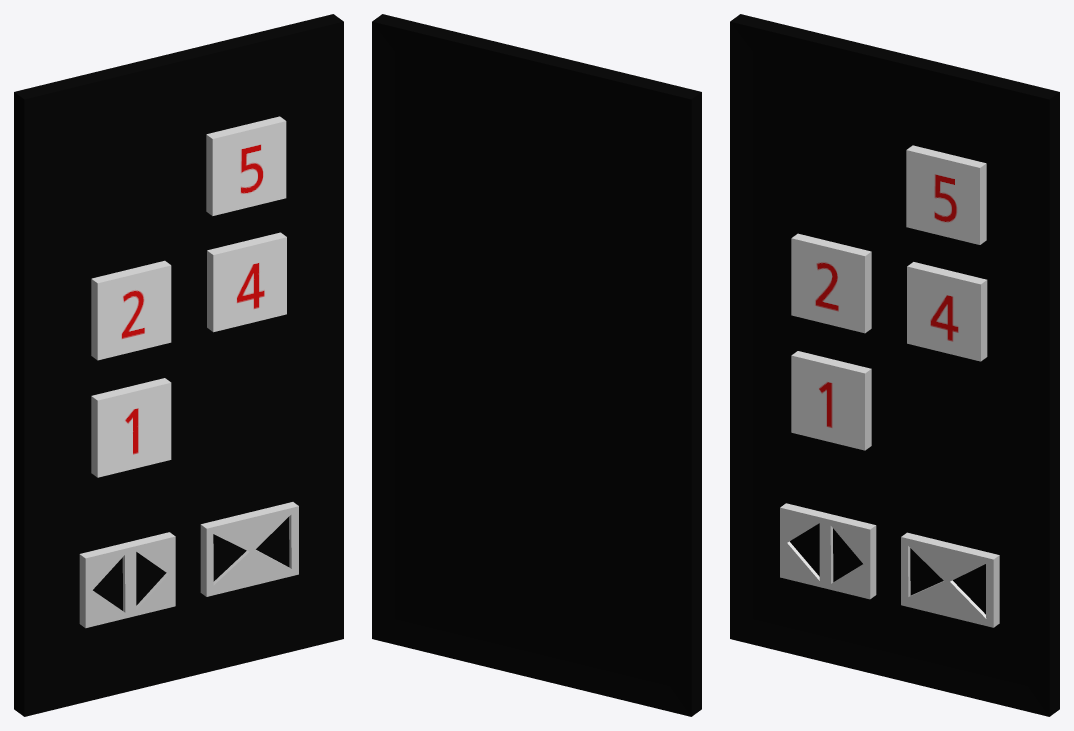
The model's file is Button_Elevator 1.fbx.
The picture shows the model from 3 angles, left to right: view 1: azimuth 30°, elevation 25°; view 2: azimuth 150°, elevation 25°; view 3: azimuth 330°, elevation 25°; orthographic projection.
Parts seen in each view (by area): view 1: polySurface12; view 2: polySurface12; view 3: polySurface12.
Boxes of the visible parts, left/top/right/bottom form: polySurface12: left=14, top=14, right=343, bottom=716; polySurface12: left=372, top=14, right=701, bottom=716; polySurface12: left=730, top=14, right=1059, bottom=716.
Bounding box in the file's own units: 0.7383 × 1.36 × 0.0655.
4 materials, 1 textured.
